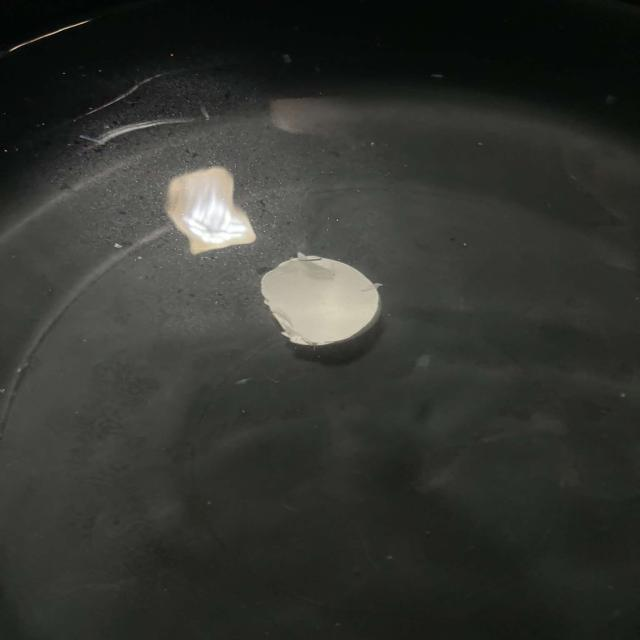Eggshell: (244, 232, 405, 376)
